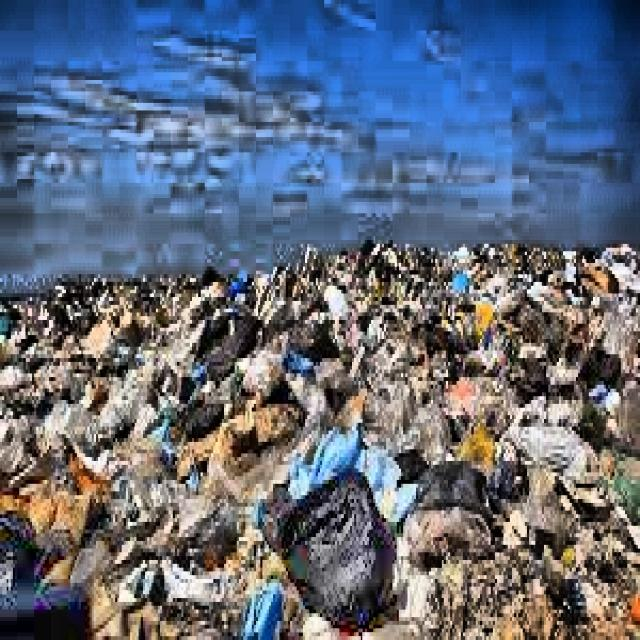garbage: (0, 290, 638, 636), (294, 244, 638, 324)
